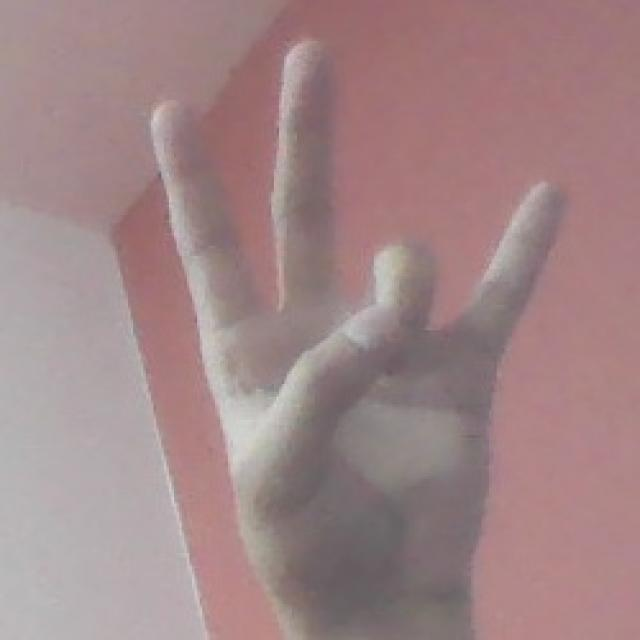Numeric-7: (152, 37, 568, 619)
